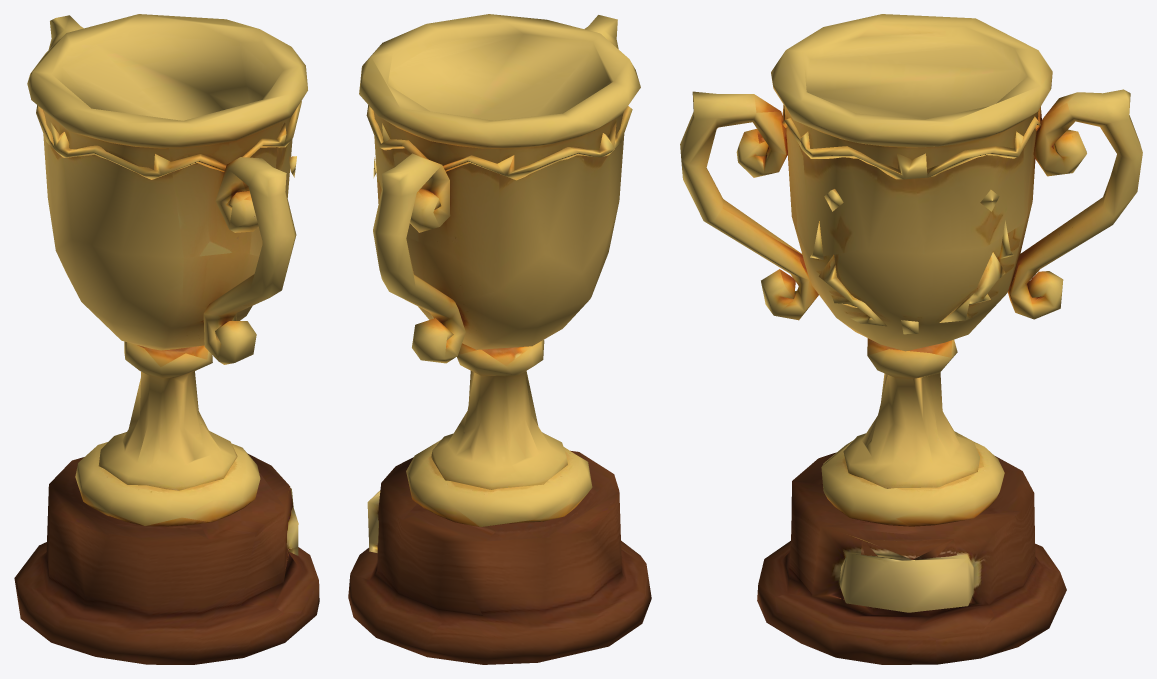
3 renders of one model, left to right at view 1: azimuth 30°, elevation 25°; view 2: azimuth 150°, elevation 25°; view 3: azimuth 270°, elevation 25°, orthographic.
Parts seen in each view (by area): view 1: tripo_node_def4b8a3-fb5b-4cf2-b719-2854301bc403; view 2: tripo_node_def4b8a3-fb5b-4cf2-b719-2854301bc403; view 3: tripo_node_def4b8a3-fb5b-4cf2-b719-2854301bc403.
Part boxes in pixels (x1,y1,x2,y2): tripo_node_def4b8a3-fb5b-4cf2-b719-2854301bc403: (14,14,319,664); tripo_node_def4b8a3-fb5b-4cf2-b719-2854301bc403: (348,14,651,664); tripo_node_def4b8a3-fb5b-4cf2-b719-2854301bc403: (680,14,1142,664).
Size of the model in its own units: 51.36 by 99.77 by 78.41.
